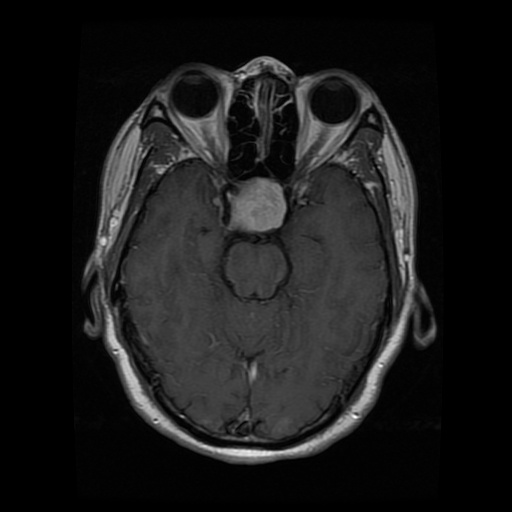pituitary: (230, 177, 286, 230)
